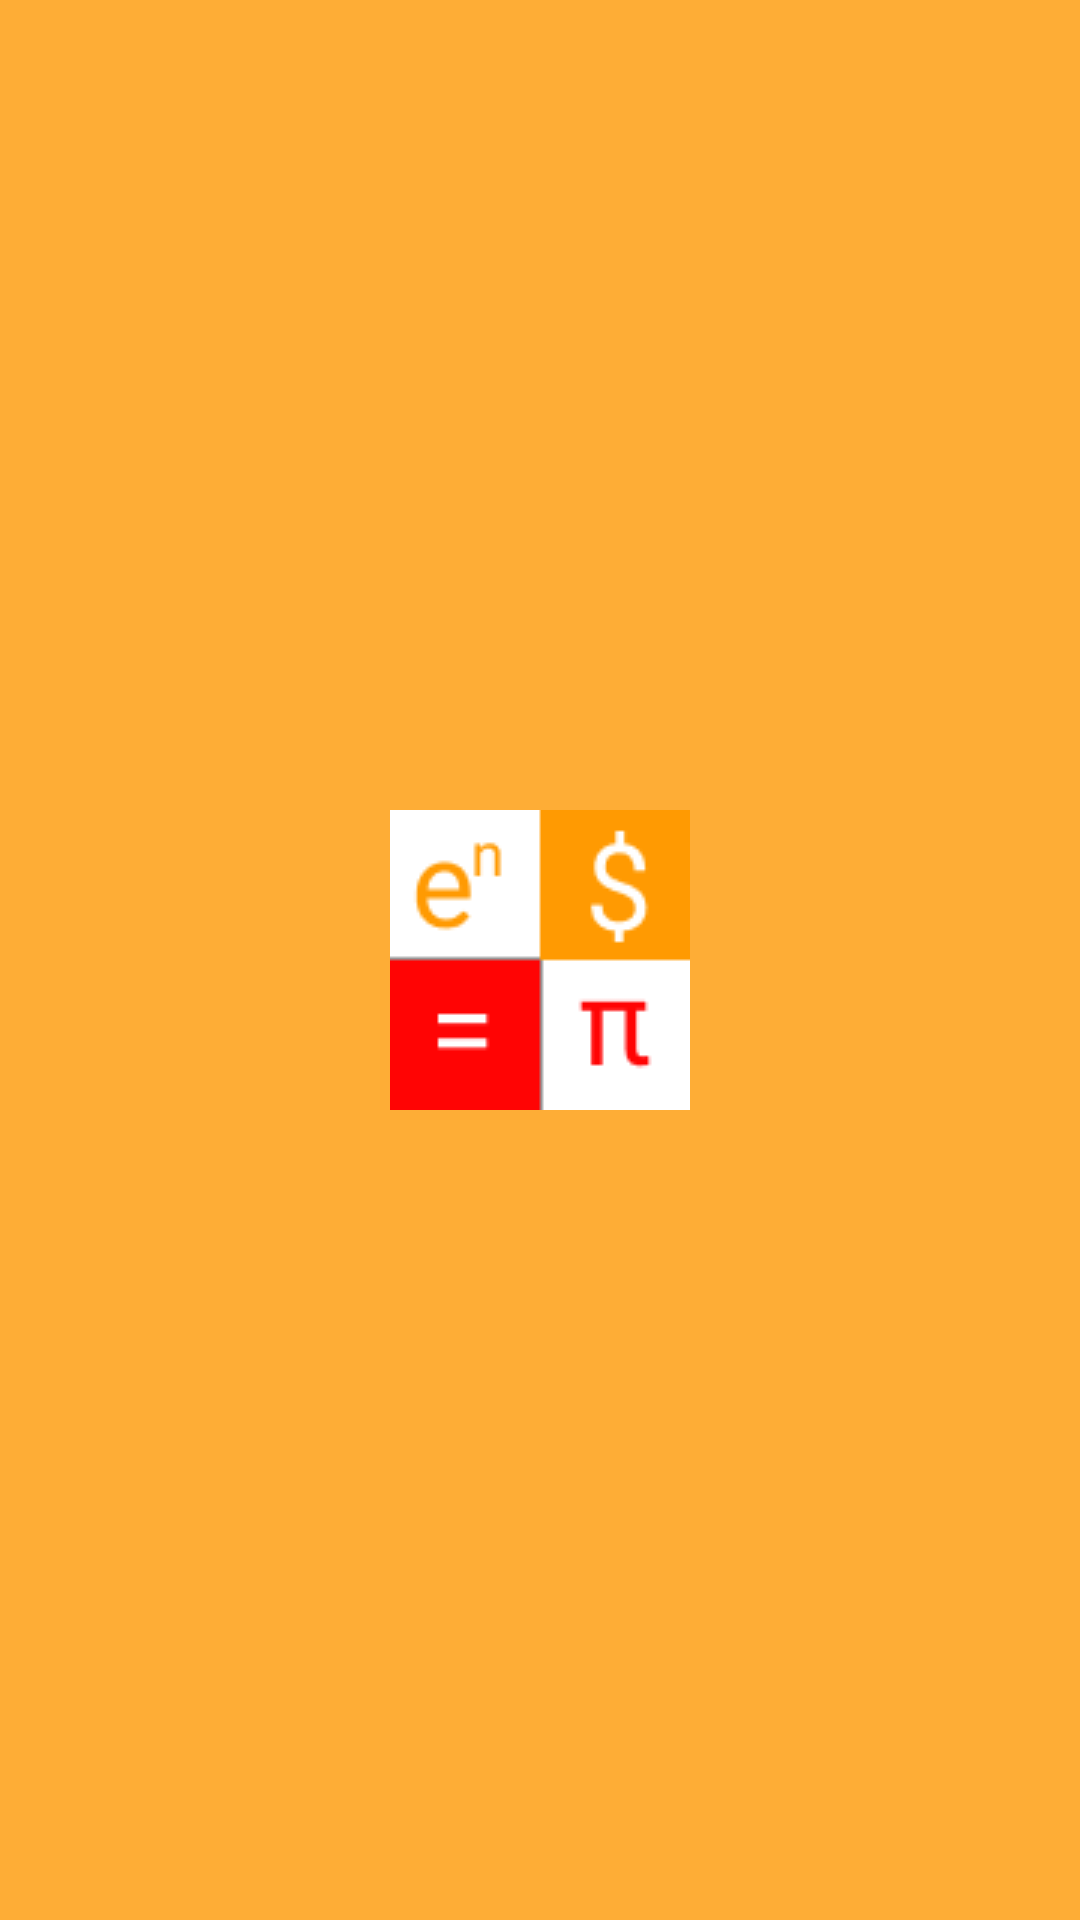

Icon bounding boxes for this 1080*1920 phone screenshot, format (x1, y1, x2, y2):
cal: (390, 810, 690, 1110)
